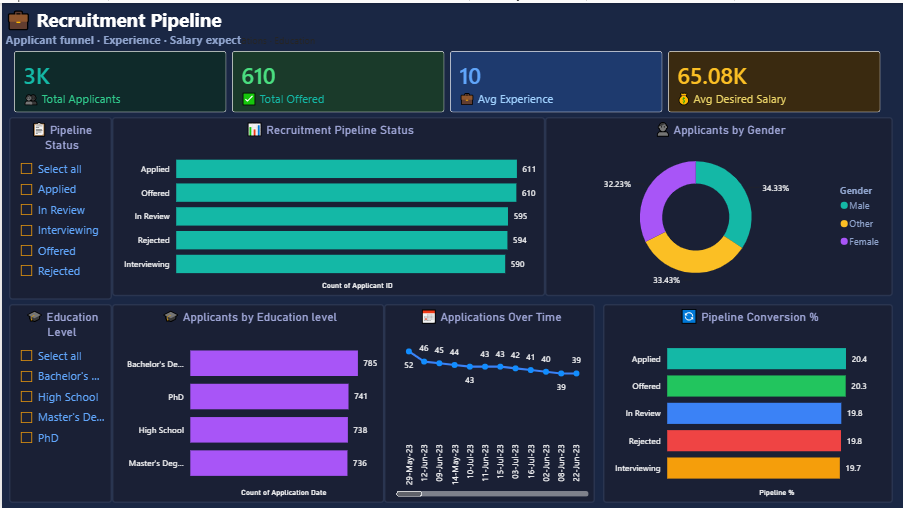

The dashboard page shown, as its layout file describes it:
{"tool":"powerbi","page":{"name":"💼 Recruitment Pipeline","canvas":[1280,720],"ordinal":2},"visuals":[{"type":"textbox","box":[0,0,1280,73.3],"z":0},{"type":"cardVisual","fields":{"Data":["CountNonNull(recruitment_data.Applicant ID)","recruitment_data.Offered Count","recruitment_data.Avg Experience","recruitment_data.Avg Desired Salary"]},"box":[0,51,1262.8,121.9],"z":1000},{"type":"donutChart","title":"👤 Applicants by Gender","fields":{"Y":["CountNonNull(recruitment_data.Applicant ID)"],"Category":["recruitment_data.Gender"]},"box":[769.6,161.6,493.2,253.7],"z":1001},{"type":"clusteredBarChart","title":"🎓 Applicants by Education level","fields":{"Category":["recruitment_data.Education Level"],"Y":["CountNonNull(recruitment_data.Application Date)"]},"box":[155.9,426.6,385.5,282],"z":1002},{"type":"clusteredBarChart","title":"🔄 Pipeline Conversion %","fields":{"Y":["recruitment_data.Pipeline %"],"Category":["recruitment_data.Status"]},"box":[851.8,426.6,411,282],"z":1003},{"type":"clusteredBarChart","title":"📊 Recruitment Pipeline Status","fields":{"Category":["recruitment_data.Status"],"Y":["CountNonNull(recruitment_data.Applicant ID)"]},"box":[155.9,161.6,613.7,253.7],"z":1004},{"type":"lineChart","title":"📅 Applications Over Time","fields":{"Category":["recruitment_data.Application Date"],"Y":["CountNonNull(recruitment_data.Applicant ID)"]},"box":[541.4,426.6,299.1,282],"z":1005},{"type":"slicer","title":"📋 Pipeline Status","fields":{"Values":["recruitment_data.Status"]},"box":[9.9,161.6,146,259.4],"z":1006},{"type":"slicer","title":"🎓 Education Level","fields":{"Values":["recruitment_data.Education Level"]},"box":[9.9,426.6,146,282],"z":1007}]}

Visuals, with their boxes in screenshot pixels (x1, y1, x2, y2), scaled from the page's 1280x720 canvas onto the 903x508 screenshot:
textbox: (0, 0, 902, 52)
cardVisual - CountNonNull(recruitment_data.Applicant ID) x recruitment_data.Offered Count: (0, 36, 891, 122)
"👤 Applicants by Gender" donutChart: (543, 114, 891, 293)
"🎓 Applicants by Education level" clusteredBarChart: (110, 301, 382, 500)
"🔄 Pipeline Conversion %" clusteredBarChart: (601, 301, 891, 500)
"📊 Recruitment Pipeline Status" clusteredBarChart: (110, 114, 543, 293)
"📅 Applications Over Time" lineChart: (382, 301, 593, 500)
"📋 Pipeline Status" slicer: (7, 114, 110, 297)
"🎓 Education Level" slicer: (7, 301, 110, 500)
